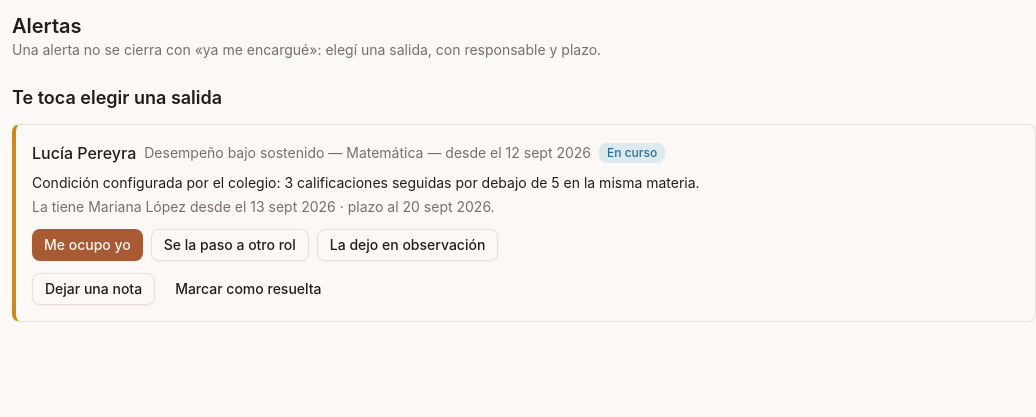
Test case: AlertsSection › leaves a note in the thread
Click the button "Dejar una nota": (94, 289) [32,273,155,305]
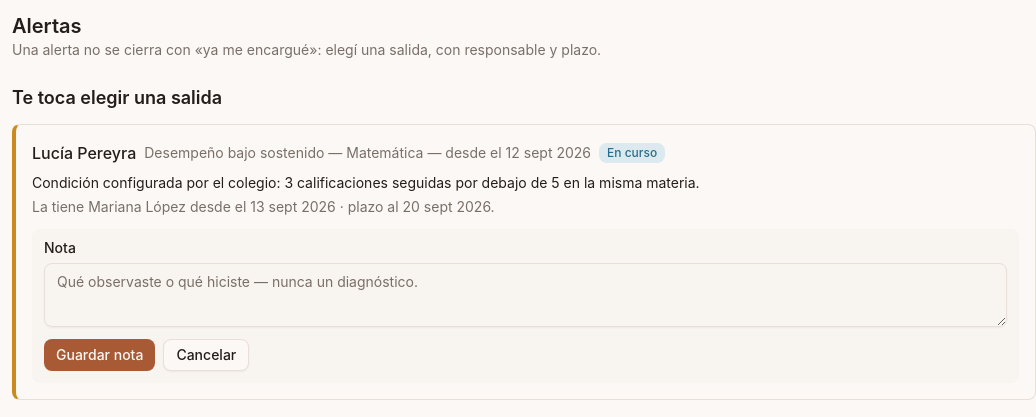
In the text box labelled "Nota": (526, 295) [44,263,1007,327], type "Hablé con la familia."
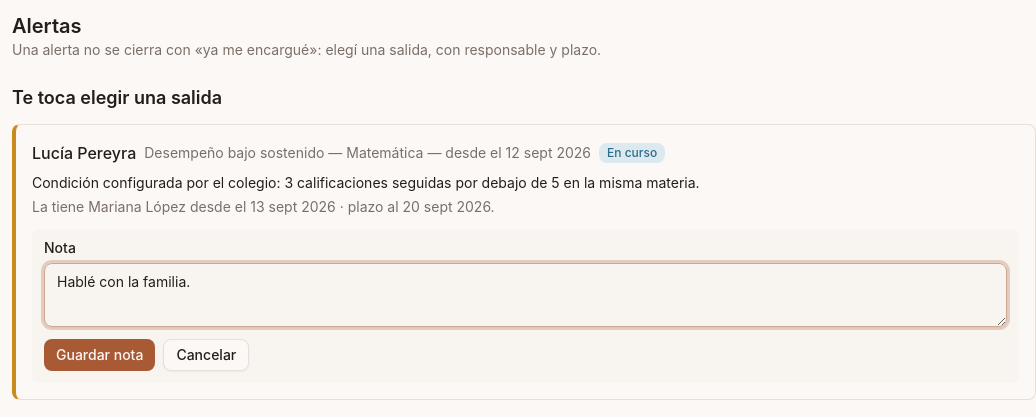
Click the button "Guardar nota": (100, 355) [44,339,155,371]
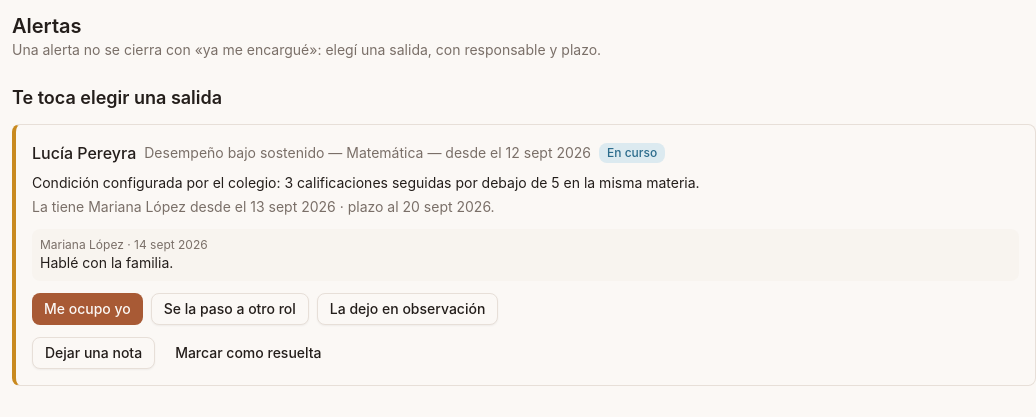
Expected: the text "Hablé con la familia." is shown, [40,254,173,271]
